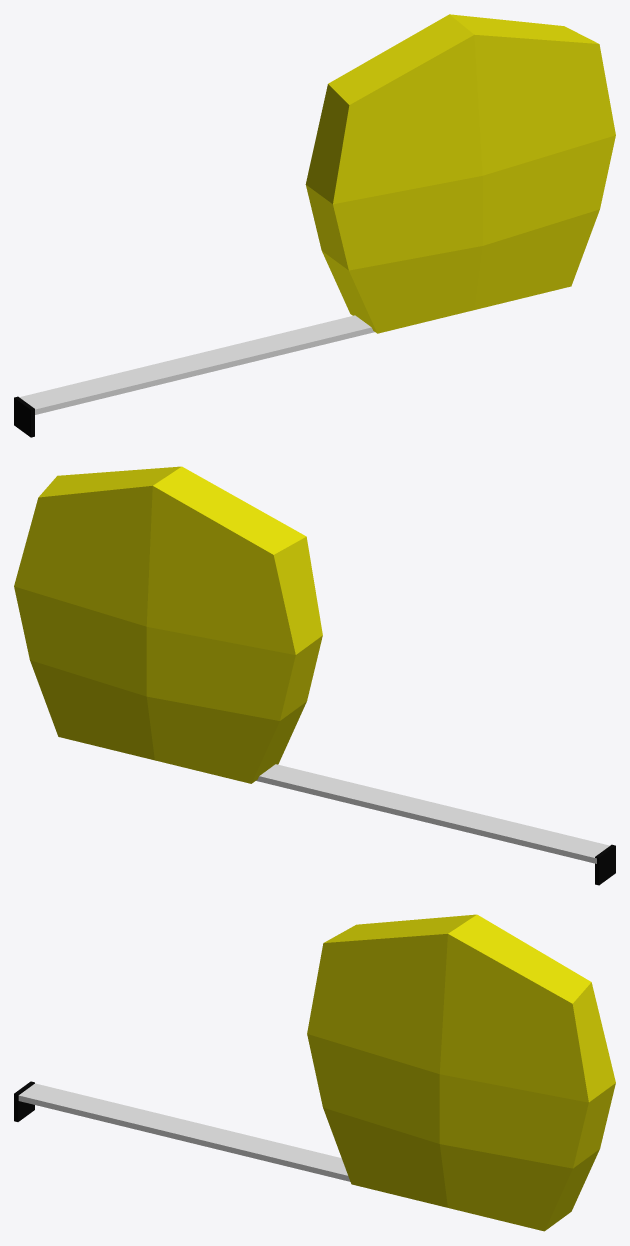
Rendered from TapeMeasure.fbx.
The picture shows the model from 3 angles, top to bottom: view 1: azimuth 30°, elevation 25°; view 2: azimuth 150°, elevation 25°; view 3: azimuth 330°, elevation 25°; orthographic projection.
Parts seen in each view (by area): view 1: TapeMeasure; view 2: TapeMeasure; view 3: TapeMeasure.
Part boxes in pixels (bbox=[...]): TapeMeasure: bbox=[14, 14, 615, 437]; TapeMeasure: bbox=[14, 466, 615, 885]; TapeMeasure: bbox=[14, 914, 615, 1231].
Bounding box in the file's own units: 73.39 × 9.55 × 36.
